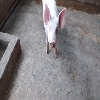heo: (41, 2, 68, 58)
